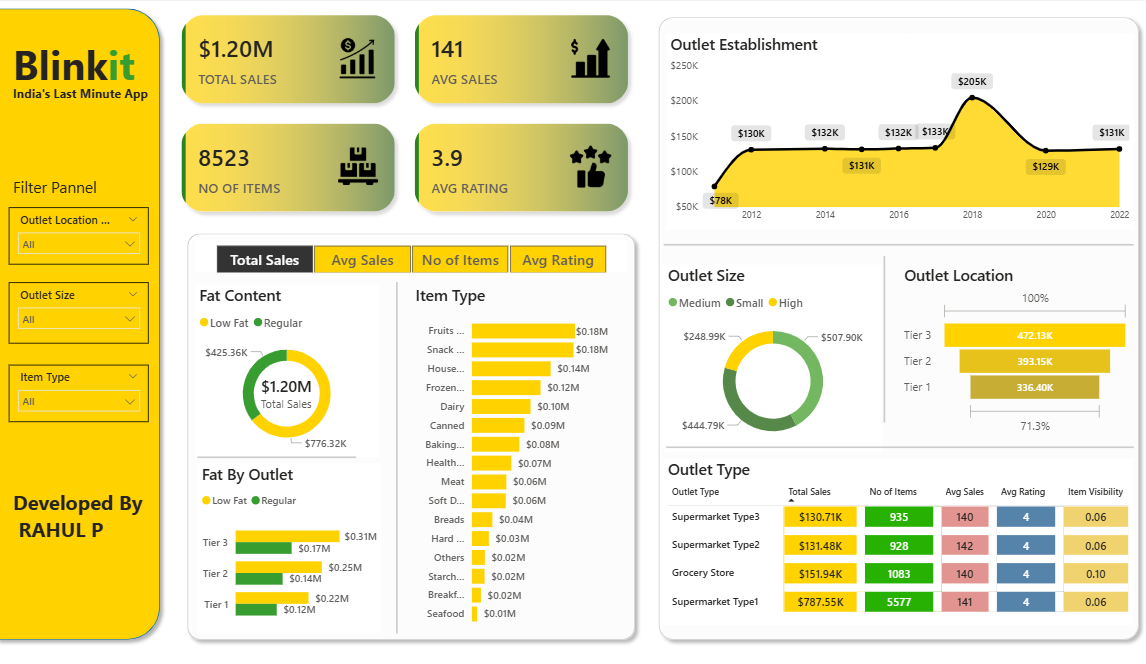

The dashboard page shown, as its layout file describes it:
{"tool":"powerbi","page":{"name":"Blinkit_Analysis","canvas":[1400,800],"ordinal":0},"visuals":[{"type":"shape","box":[10.5,0,214.6,775.9],"z":0},{"type":"textbox","box":[34.5,37.5,168.1,79.5],"z":1000},{"type":"textbox","box":[34.5,96.1,205.6,123.1],"z":2000},{"type":"cardVisual","fields":{"Data":["BlinkIT Grocery Data.Total Sales","BlinkIT Grocery Data.Avg Sales","BlinkIT Grocery Data.No of Items","BlinkIT Grocery Data.Avg Rating"]},"box":[225.1,0,570.3,270.2],"z":3000},{"type":"shape","box":[240.1,270.2,555.3,505.8],"z":4000},{"type":"donutChart","title":"Fat Content","fields":{"Y":["BlinkIT Grocery Data.Total Sales"],"Category":["BlinkIT Grocery Data.Item Fat Content"]},"box":[258.1,340.7,220.6,207.1],"z":5000},{"type":"slicer","fields":{"Values":["Metrics.Metrics"]},"box":[258.1,286.7,517.8,39],"z":6000},{"type":"cardVisual","fields":{"Data":["BlinkIT Grocery Data.Total Sales"]},"box":[315.2,432.2,105.1,73.5],"z":7000},{"type":"clusteredBarChart","title":"Fat By Outlet","fields":{"Y":["BlinkIT Grocery Data.Total Sales"],"Category":["BlinkIT Grocery Data.Outlet Location Type"],"Series":["BlinkIT Grocery Data.Item Fat Content"]},"box":[261.2,555.3,220.6,204.1],"z":8000},{"type":"shape","box":[261.2,514.8,190.6,66],"z":9000},{"type":"shape","box":[468.3,337.7,64.5,421.7],"z":10000},{"type":"barChart","title":"Item Type","fields":{"Y":["BlinkIT Grocery Data.Total Sales"],"Category":["BlinkIT Grocery Data.Item Type"]},"box":[517.8,340.7,241.6,418.7],"z":11000},{"type":"shape","box":[806,10.5,594.3,765.4],"z":12000},{"type":"lineChart","title":"Outlet Establishment","fields":{"Y":["BlinkIT Grocery Data.Total Sales"],"Category":["BlinkIT Grocery Data.Outlet Establishment Year"]},"box":[824,39,561.3,235.6],"z":13000},{"type":"shape","box":[821,259.6,564.3,66],"z":14000},{"type":"donutChart","title":"Outlet Size","fields":{"Y":["BlinkIT Grocery Data.Total Sales"],"Category":["BlinkIT Grocery Data.Outlet Size"]},"box":[821,316.7,262.7,225.1],"z":15000},{"type":"shape","box":[1053.6,306.2,64.5,199.6],"z":16000},{"type":"funnel","title":"Outlet Location","fields":{"Y":["Sum(BlinkIT Grocery Data.Sales)"],"Category":["BlinkIT Grocery Data.Outlet Location Type"]},"box":[1104.6,316.7,280.7,207.1],"z":17000},{"type":"shape","box":[824,456.3,561.3,159.1],"z":18000},{"type":"pivotTable","title":"Outlet Type","fields":{"Rows":["BlinkIT Grocery Data.Outlet Type"],"Values":["BlinkIT Grocery Data.Total Sales","BlinkIT Grocery Data.No of Items","BlinkIT Grocery Data.Avg Sales","BlinkIT Grocery Data.Avg Rating","Avg(BlinkIT Grocery Data.Item Visibility)"]},"box":[821,549.3,564.3,199.6],"z":19000},{"type":"slicer","fields":{"Values":["BlinkIT Grocery Data.Outlet Location Type"]},"box":[34.5,247.6,168.1,69],"z":20000},{"type":"slicer","fields":{"Values":["BlinkIT Grocery Data.Outlet Size"]},"box":[34.5,337.7,168.1,73.5],"z":21000},{"type":"slicer","fields":{"Values":["BlinkIT Grocery Data.Item Type"]},"box":[34.5,436.8,168.1,69],"z":23000},{"type":"textbox","box":[34.5,580.8,168.1,168.1],"z":24000},{"type":"textbox","box":[34.5,205.6,144.1,42],"z":25000}]}

Visuals, with their boxes in screenshot pixels (x1, y1, x2, y2), scaled from the page's 1400x800 canvas onto the 1146x664 screenshot:
shape: 9,0,184,644
textbox: 28,31,166,97
textbox: 28,80,197,182
cardVisual - BlinkIT Grocery Data.Total Sales x BlinkIT Grocery Data.Avg Sales: 184,0,651,224
shape: 197,224,651,644
"Fat Content" donutChart: 211,283,392,455
slicer - Metrics.Metrics: 211,238,635,270
cardVisual - BlinkIT Grocery Data.Total Sales: 258,359,344,420
"Fat By Outlet" clusteredBarChart: 214,461,394,630
shape: 214,427,370,482
shape: 383,280,436,630
"Item Type" barChart: 424,283,622,630
shape: 660,9,1145,644
"Outlet Establishment" lineChart: 675,32,1134,228
shape: 672,215,1134,270
"Outlet Size" donutChart: 672,263,887,450
shape: 862,254,915,420
"Outlet Location" funnel: 904,263,1134,435
shape: 675,379,1134,511
"Outlet Type" pivotTable: 672,456,1134,622
slicer - BlinkIT Grocery Data.Outlet Location Type: 28,206,166,263
slicer - BlinkIT Grocery Data.Outlet Size: 28,280,166,341
slicer - BlinkIT Grocery Data.Item Type: 28,363,166,420
textbox: 28,482,166,622
textbox: 28,171,146,206
